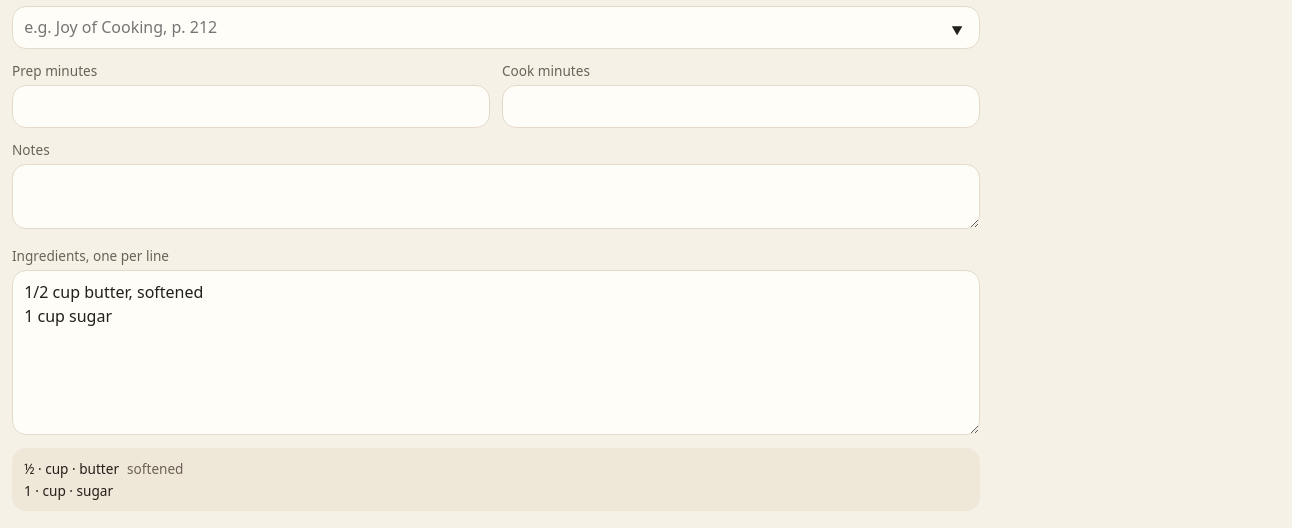
Test case: what the parser made of each line › follows an edit to the ingredient text
(page scrolled)
Replace the text in the text box labelled "Ingredients, one per line" with "2 tbsp olive oil" at (496, 352), box [12,270,980,435]
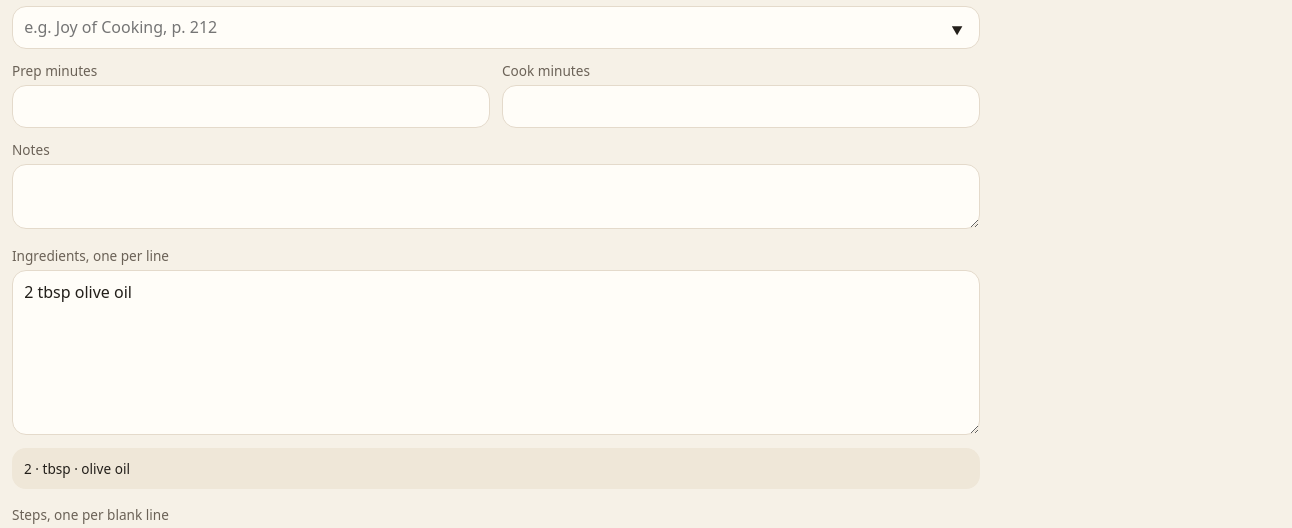
expect the text "2 · tbsp · olive oil" is shown: met, box [24,459,130,478]
